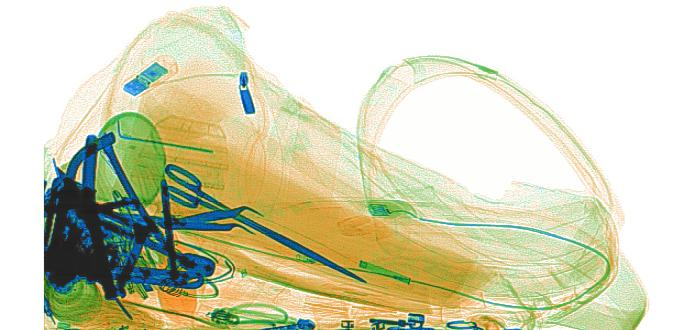USBFlashDisk: (120, 61, 168, 95)
scissors: (160, 161, 372, 284)
